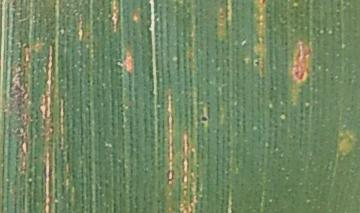tarspot: (197, 112, 210, 127)
